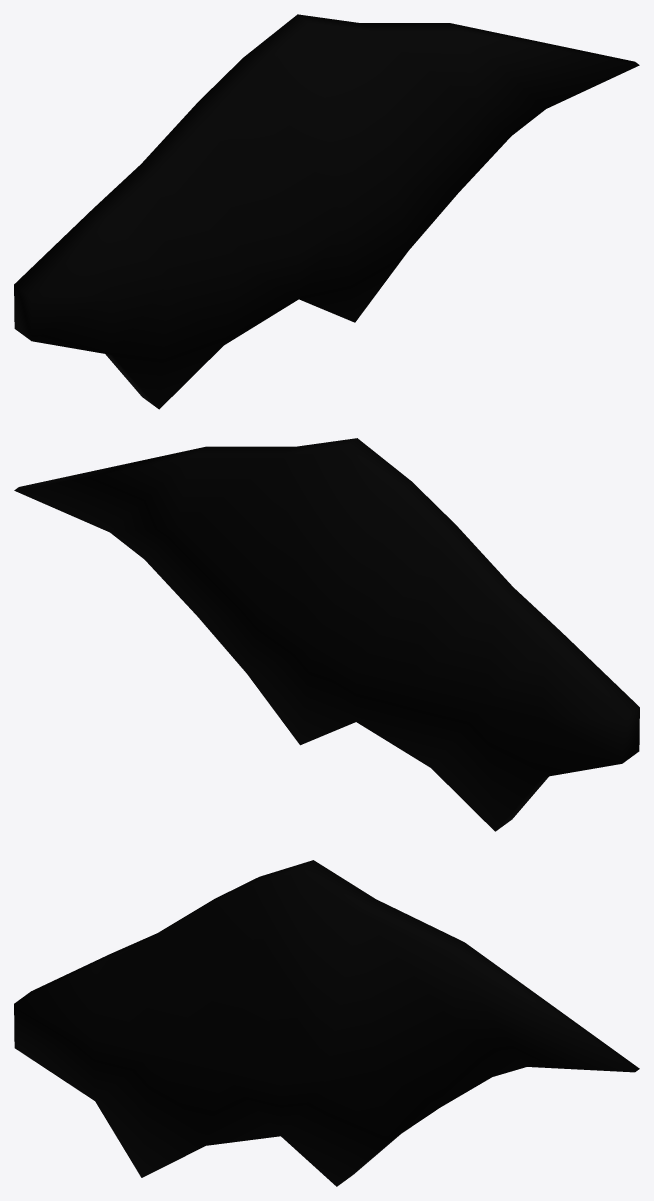
The model's file is Wing_R.obj.
3 renders of one model, top to bottom at view 1: azimuth 30°, elevation 25°; view 2: azimuth 150°, elevation 25°; view 3: azimuth 330°, elevation 25°, orthographic.
Parts seen in each view (by area): view 1: E_Wing_R; view 2: E_Wing_R; view 3: E_Wing_R.
Boxes of the visible parts, left/top/right/bottom form: E_Wing_R: left=14, top=14, right=639, bottom=409; E_Wing_R: left=14, top=438, right=639, bottom=831; E_Wing_R: left=14, top=860, right=639, bottom=1186.
Size of the model in its own units: 2.67 by 1.43 by 0.1286.
1 material, 1 textured.
